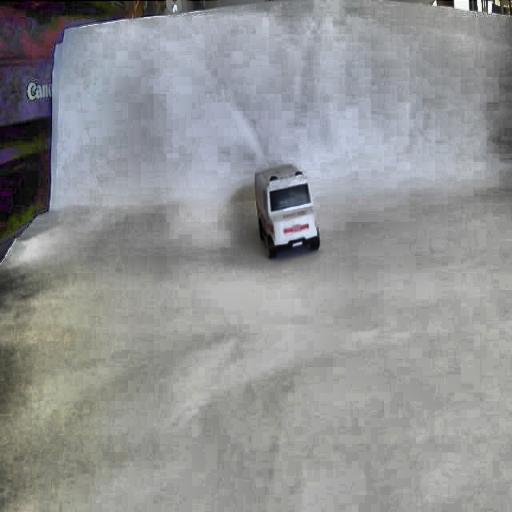ambulance: (254, 163, 320, 258)
